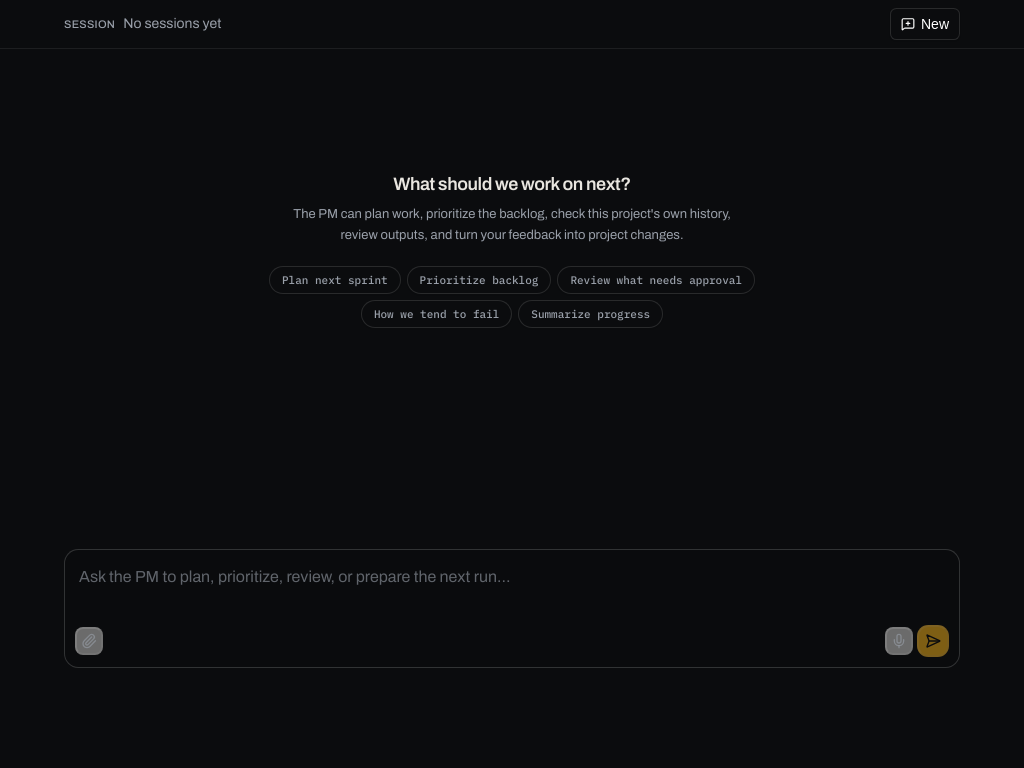
Test: PM workspace › empty state shows starter chips that populate (not send) the composer; no quick commands
This screenshot has width=1024, height=768.
Check: the text "What should we work on next?" is shown, box [393,174,631,194]
Click the button "Plan next sprint".
click(335, 280)  # box [269,266,401,294]
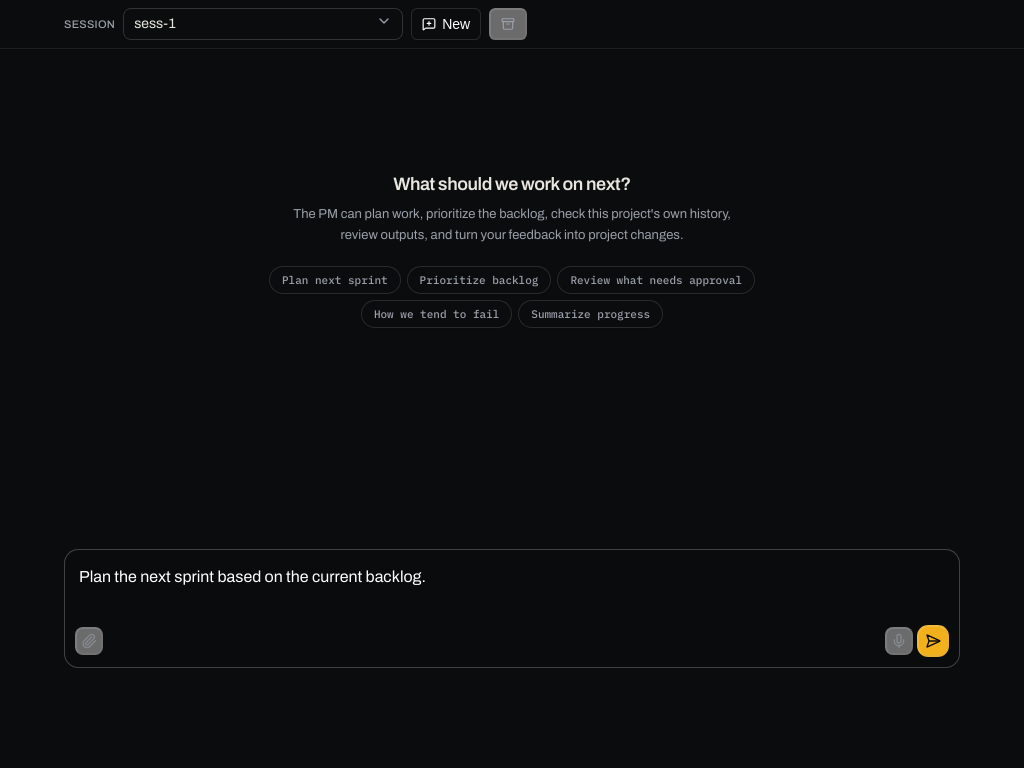
Check: the number of buttons "Plan next sprint" is 1, box [269,266,401,294]
Check: the text box with placeholder "Ask the PM to plan" holds "Plan the next sprint based on the current backlog.", box [65,550,959,622]
